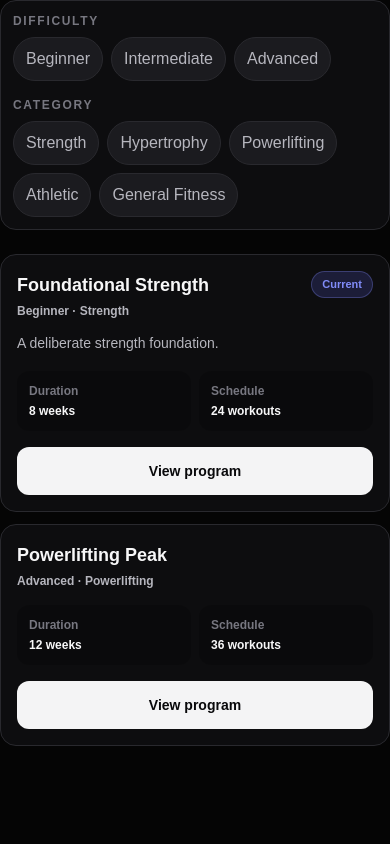
Test: ProgramBrowser › filters independently by supported difficulty and category
Click the button "Advanced". click: [283, 59]
box: [234, 37, 331, 81]
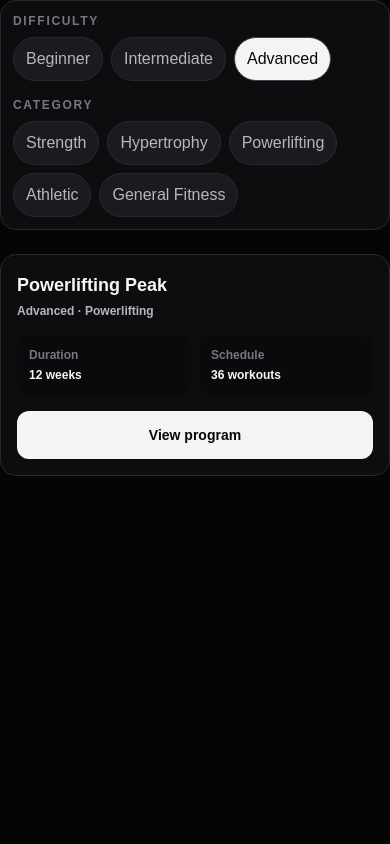
Expected: the heading "Powerlifting Peak" is shown, [17, 271, 167, 299]
Expected: the heading "Foundational Strength" is gone
Click the button "Strength". click: [56, 143]
box: [13, 121, 100, 165]
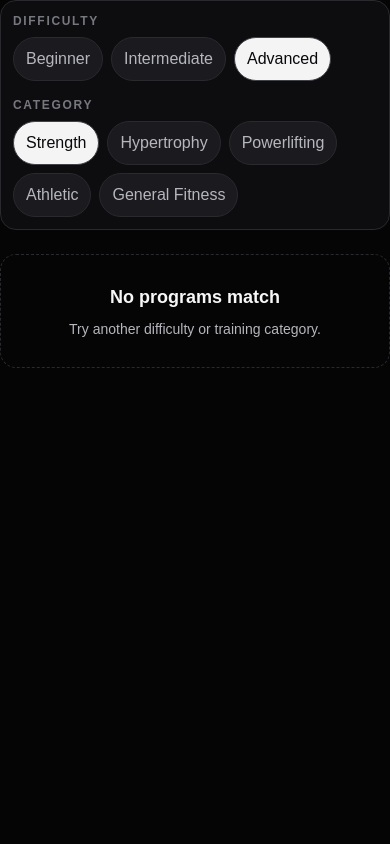
Expected: the message shows "No programs match", [110, 287, 280, 307]
